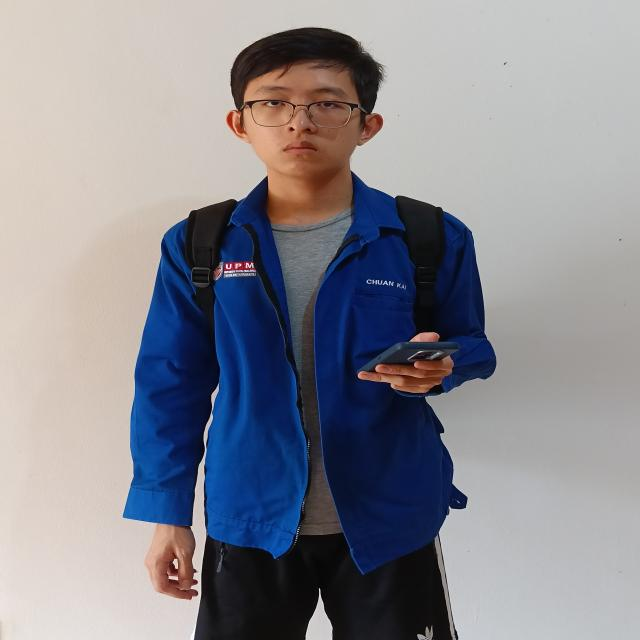person_with_labcoat: (123, 28, 496, 640)
